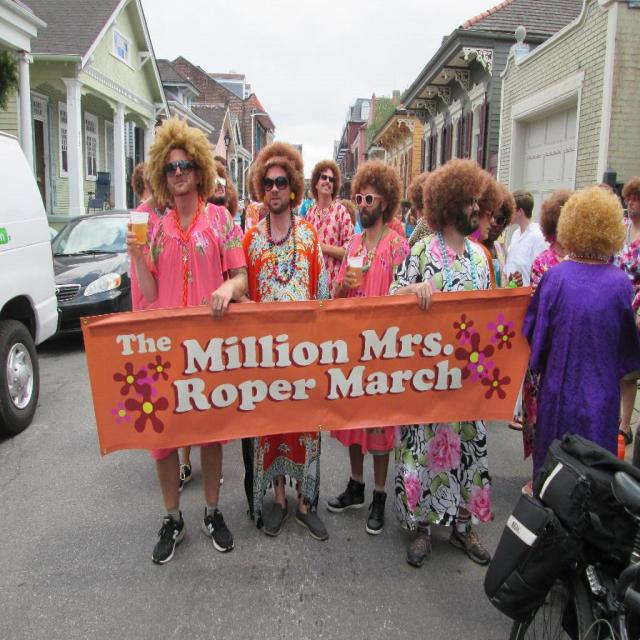other: (0, 128, 56, 438), (57, 205, 131, 337)
